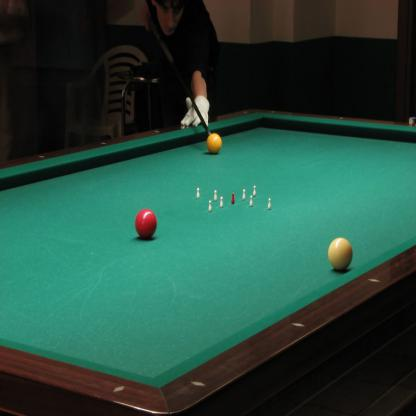Ball: (328, 238, 352, 271), (135, 208, 156, 240), (206, 133, 221, 156)
